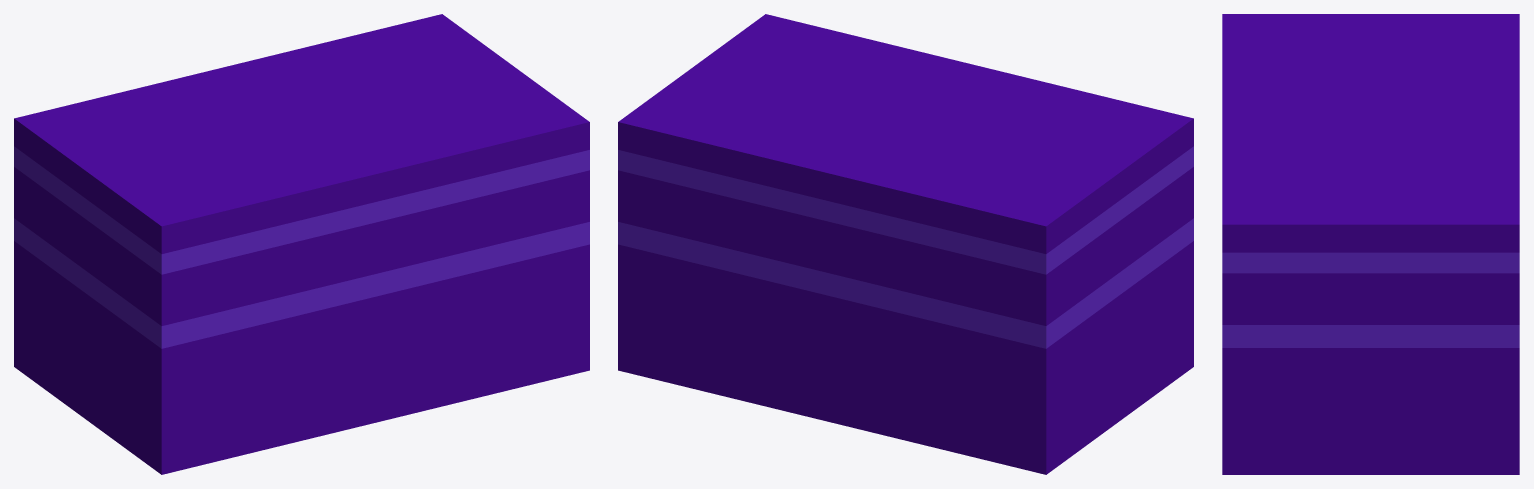
Rendered from Building_07.fbx.
3 renders of one model, left to right at view 1: azimuth 30°, elevation 25°; view 2: azimuth 150°, elevation 25°; view 3: azimuth 270°, elevation 25°, orthographic.
Visible parts, largest first — view 1: Building_07; view 2: Building_07; view 3: Building_07.
Boxes of the visible parts, x1=… form: Building_07: x1=14, y1=14, x2=589, y2=474; Building_07: x1=618, y1=14, x2=1193, y2=474; Building_07: x1=1222, y1=14, x2=1519, y2=474.
Bounding box in the file's own units: 44.15 × 24.49 × 26.36.
